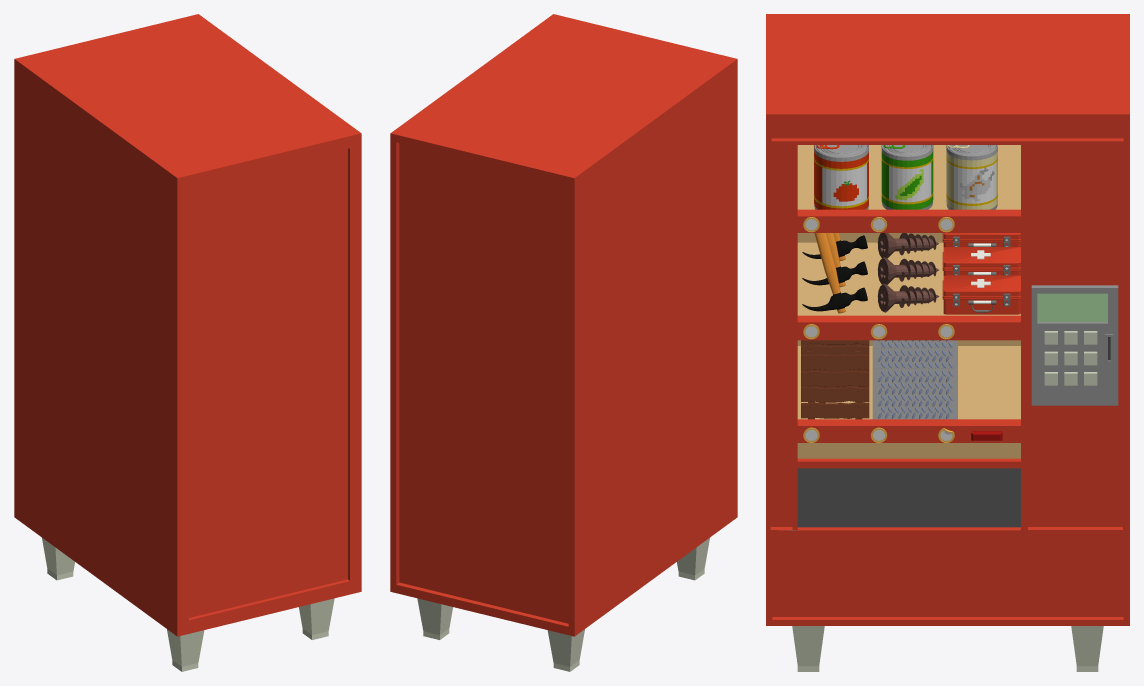
Rendered from vending machine5.fbx.
3 views of the same model, side by side, from view 1: azimuth 30°, elevation 25°; view 2: azimuth 150°, elevation 25°; view 3: azimuth 270°, elevation 25° (orthographic). The views are drawn at different scales.
Parts seen in each view (by area): view 1: Cube.004, Cube.005; view 2: Cube.004, Cube.005; view 3: Cube.004, Cube.007, Cube.003, Plane, Cube.002, Cylinder, Cylinder.001, Cylinder.002, Cylinder.003, Cube.001, Cube.005, Cube.006 (+1 smaller).
Part boxes in pixels (x1,y1,x2,y2): Cube.004: (14, 14, 361, 636); Cube.005: (42, 538, 334, 671); Cube.004: (390, 14, 737, 636); Cube.005: (417, 538, 709, 671); Cube.004: (766, 14, 1129, 625); Cube.007: (1031, 285, 1118, 405); Cube.003: (872, 340, 957, 419); Plane: (942, 233, 1020, 314); Cube.002: (801, 340, 869, 419); Cylinder: (814, 145, 868, 209); Cylinder.001: (881, 145, 933, 209); Cylinder.002: (946, 145, 997, 209); Cylinder.003: (877, 233, 939, 312); Cube.001: (802, 233, 867, 313); Cube.005: (789, 530, 1103, 671); Cube.006: (1044, 331, 1097, 385).
Size of the model in its own units: 320 by 825 by 479.
